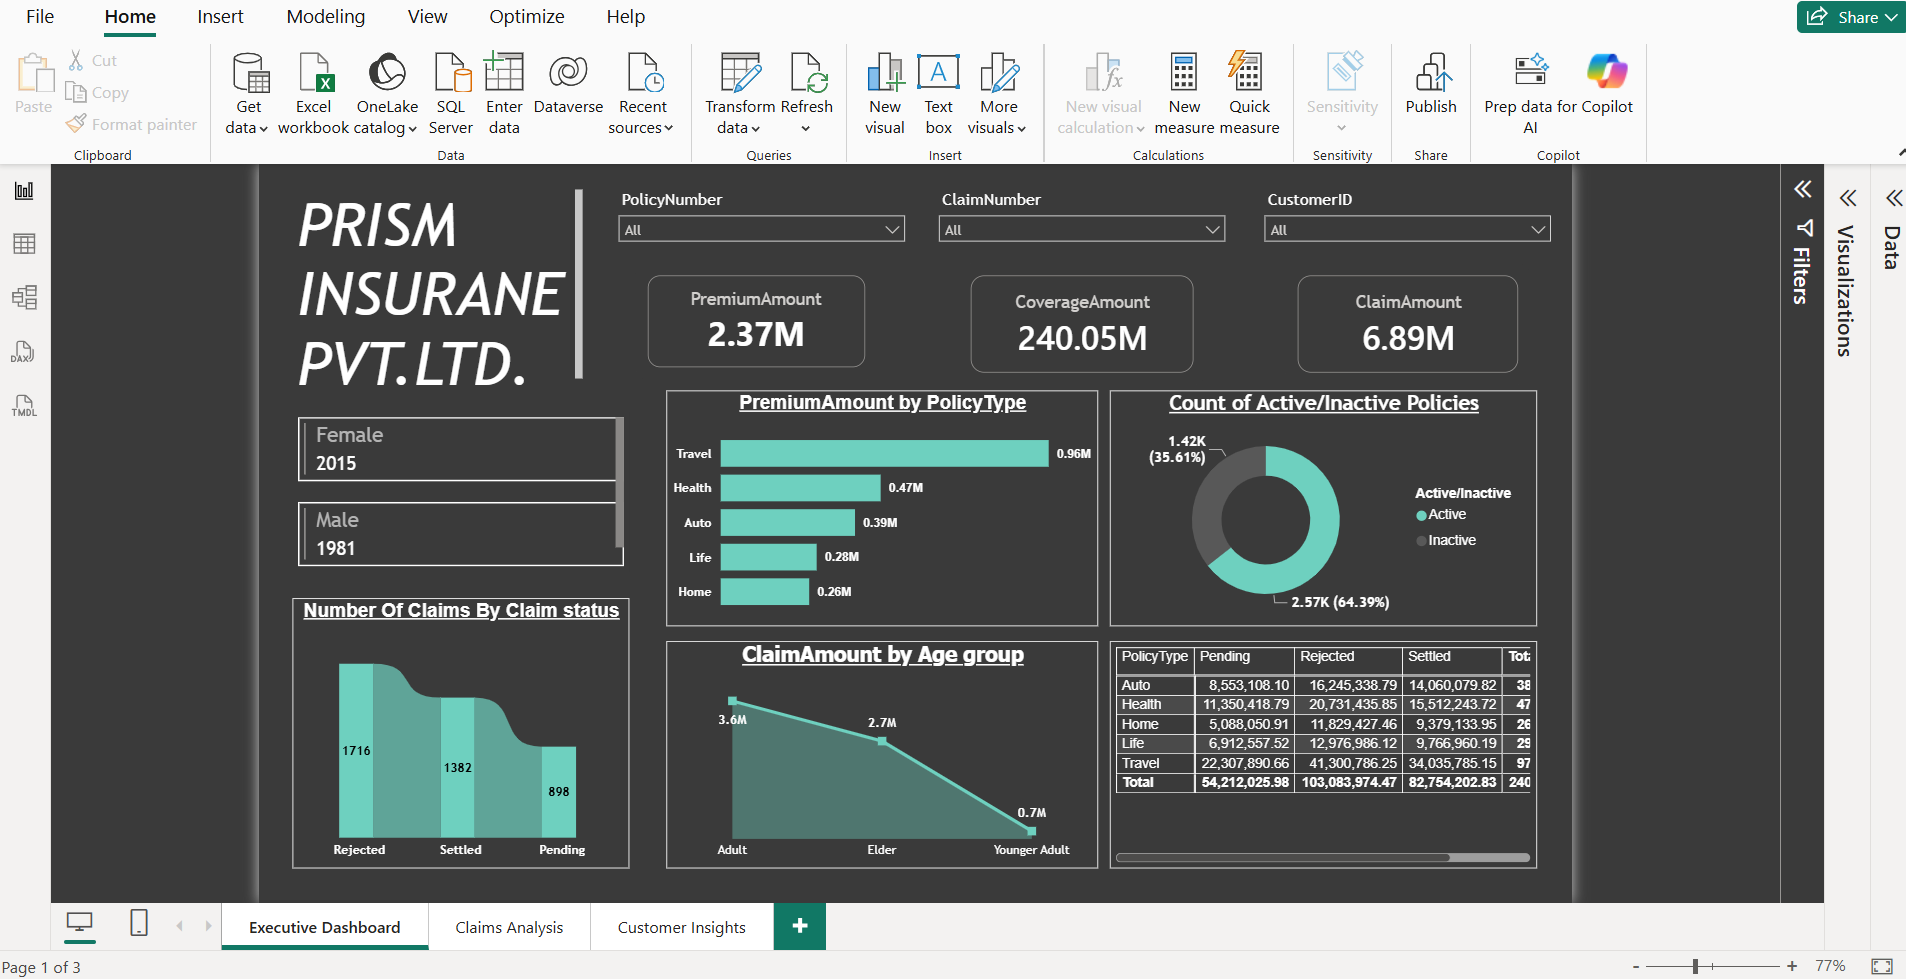

The dashboard page shown, as its layout file describes it:
{"tool":"powerbi","page":{"name":"Executive Dashboard","canvas":[1280,720],"ordinal":0},"visuals":[{"type":"slicer","fields":{"Values":["InsuranceData.PolicyNumber"]},"box":[340.6,20,299,92.5],"z":0},{"type":"slicer","fields":{"Values":["InsuranceData.ClaimNumber"]},"box":[653.4,20,299,92.5],"z":1000},{"type":"slicer","fields":{"Values":["InsuranceData.CustomerID"]},"box":[970.9,20,299,92.5],"z":2000},{"type":"textbox","box":[32.4,20,288.2,211.1],"z":3000},{"type":"cardVisual","fields":{"Data":["Sum(InsuranceData.PremiumAmount)"]},"box":[362.1,90.9,246.6,124.8],"z":4000},{"type":"cardVisual","fields":{"Data":["Sum(InsuranceData.CoverageAmount)"]},"box":[676.5,90.9,251.2,129.4],"z":5000},{"type":"cardVisual","fields":{"Data":["Sum(InsuranceData.ClaimAmount)"]},"box":[995.5,90.9,249.6,129.4],"z":6000},{"type":"multiRowCard","fields":{"Values":["InsuranceData.Gender","CountNonNull(InsuranceData.Gender)"]},"box":[32.4,241.9,328.2,155.6],"z":7000},{"type":"ribbonChart","title":"Number Of Claims By Claim status","fields":{"Category":["InsuranceData.ClaimStatus"],"Y":["CountNonNull(InsuranceData.ClaimStatus)"]},"box":[32.4,423.8,328.2,263.5],"z":8000},{"type":"barChart","title":"PremiumAmount by PolicyType","fields":{"Category":["InsuranceData.PolicyType"],"Y":["Sum(InsuranceData.PremiumAmount)"]},"box":[397.6,220.4,420.7,229.6],"z":9000},{"type":"lineChart","title":" ClaimAmount by Age group ","fields":{"Category":["InsuranceData.Age group "],"Y":["Sum(InsuranceData.ClaimAmount)"]},"box":[397.6,465.4,420.7,221.9],"z":10000},{"type":"donutChart","title":"Count of Active/Inactive Policies","fields":{"Category":["InsuranceData.Active/Inactive "],"Y":["CountNonNull(InsuranceData.Active/Inactive )"]},"box":[829.1,220.4,416.1,229.6],"z":11000},{"type":"pivotTable","fields":{"Values":["Sum(InsuranceData.CoverageAmount)"],"Columns":["InsuranceData.ClaimStatus"],"Rows":["InsuranceData.PolicyType"]},"box":[829.1,465.4,416.1,221.9],"z":12000}]}

Visuals, with their boxes on the page's 1280x720 design canvas (x1, y1, x2, y2). These are canvas units, not pixel positions in the 1906x979 screenshot, which may show the page scaled, cropped or inside an application window:
slicer - InsuranceData.PolicyNumber: [341, 20, 640, 112]
slicer - InsuranceData.ClaimNumber: [653, 20, 952, 112]
slicer - InsuranceData.CustomerID: [971, 20, 1270, 112]
textbox: [32, 20, 321, 231]
cardVisual - Sum(InsuranceData.PremiumAmount): [362, 91, 609, 216]
cardVisual - Sum(InsuranceData.CoverageAmount): [676, 91, 928, 220]
cardVisual - Sum(InsuranceData.ClaimAmount): [996, 91, 1245, 220]
multiRowCard - InsuranceData.Gender x CountNonNull(InsuranceData.Gender): [32, 242, 361, 398]
"Number Of Claims By Claim status" ribbonChart: [32, 424, 361, 687]
"PremiumAmount by PolicyType" barChart: [398, 220, 818, 450]
" ClaimAmount by Age group " lineChart: [398, 465, 818, 687]
"Count of Active/Inactive Policies" donutChart: [829, 220, 1245, 450]
pivotTable - Sum(InsuranceData.CoverageAmount) x InsuranceData.ClaimStatus: [829, 465, 1245, 687]
